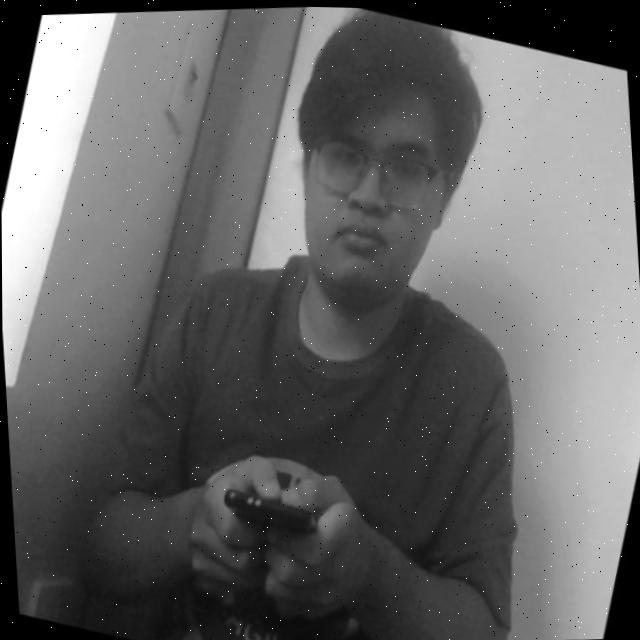phone: (193, 437, 363, 584)
